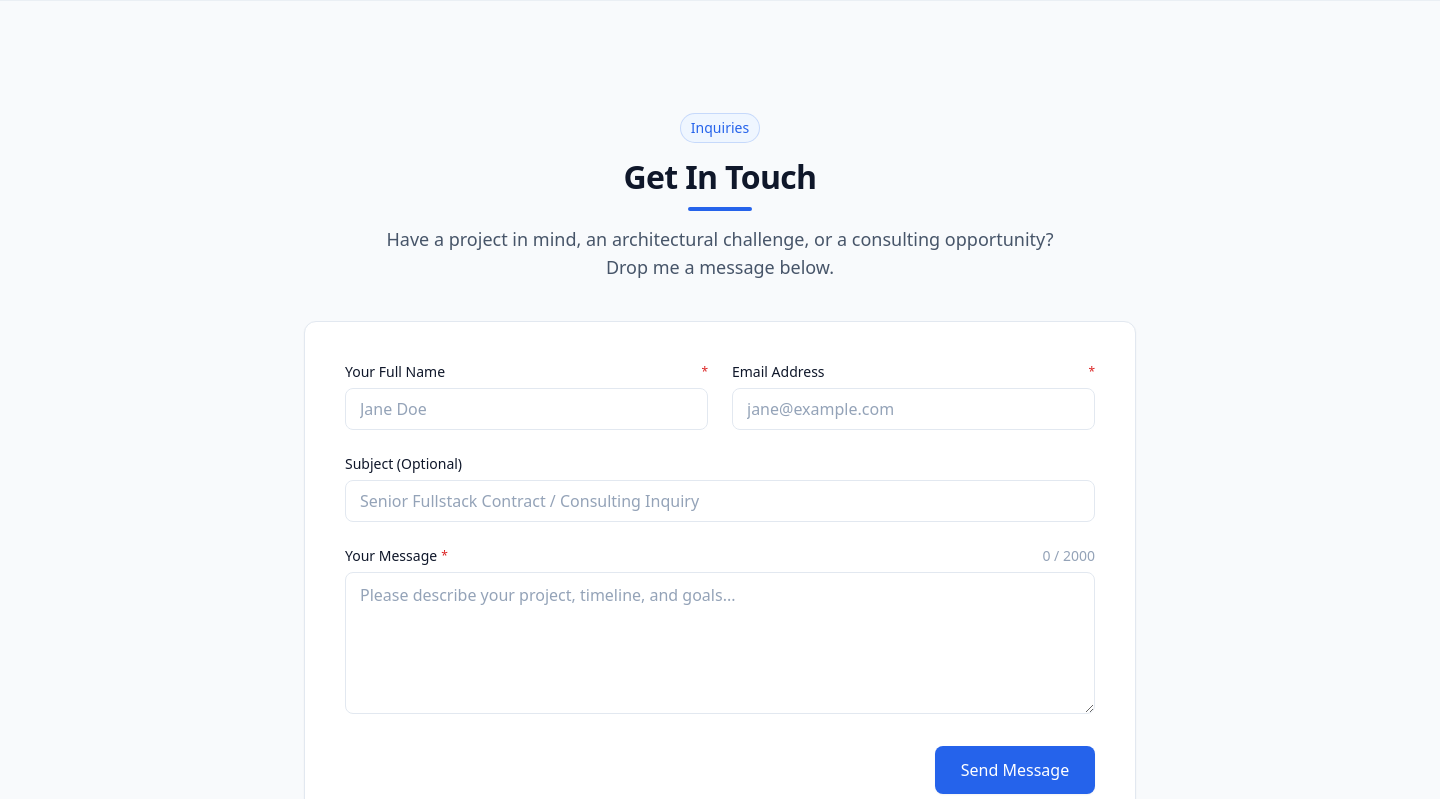
Test case: Contact Form Component › Client-Side Form Validation › shows inline error when email format is invalid
Type "invalid-email-string" into the field labelled "Email Address *" at {"x": 914, "y": 409}, box [732,388,1095,430]
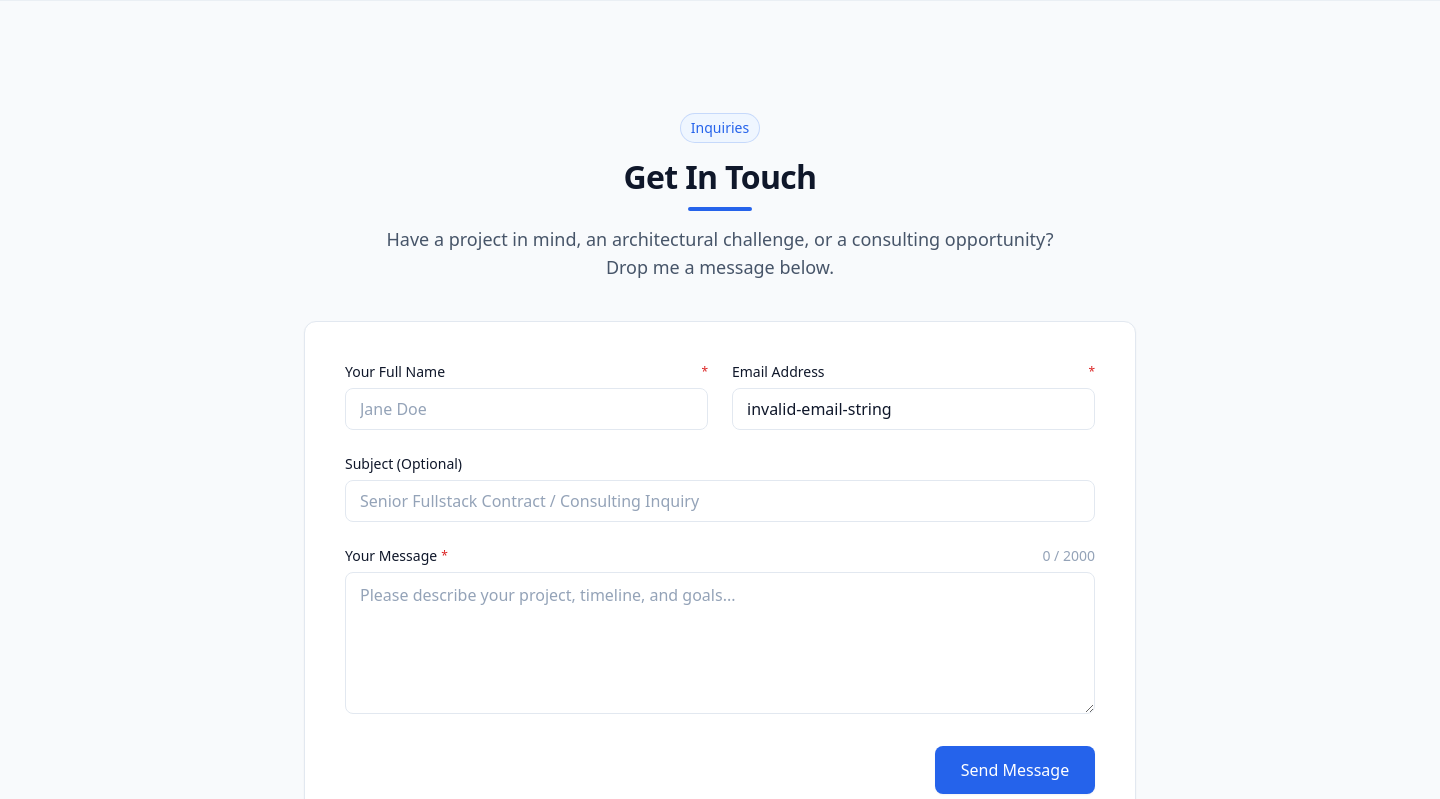
Click the button "Send Message" at {"x": 1015, "y": 770}, box [935,746,1095,794]
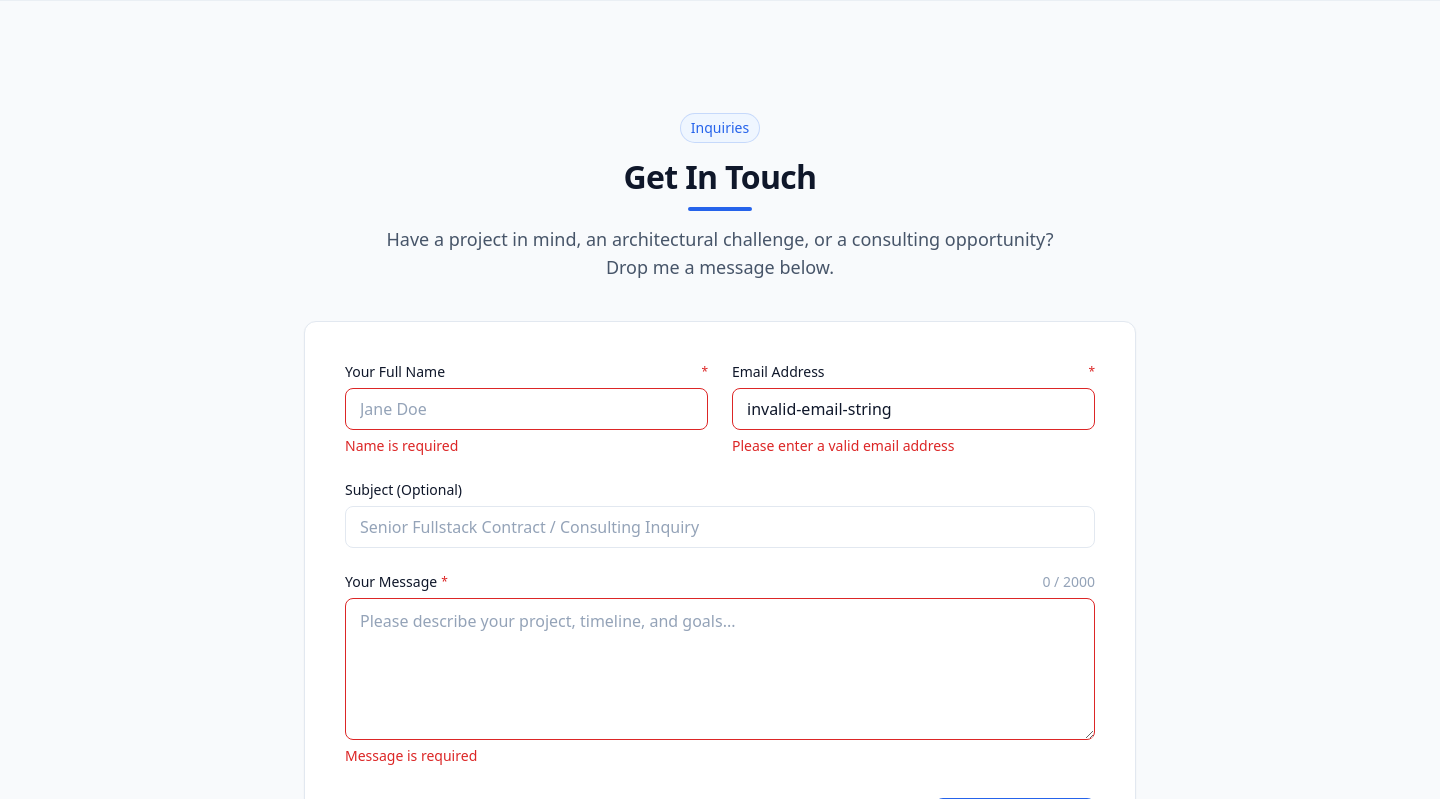
Expected: the text "Please enter a valid email address" is shown, [732,436,954,456]
